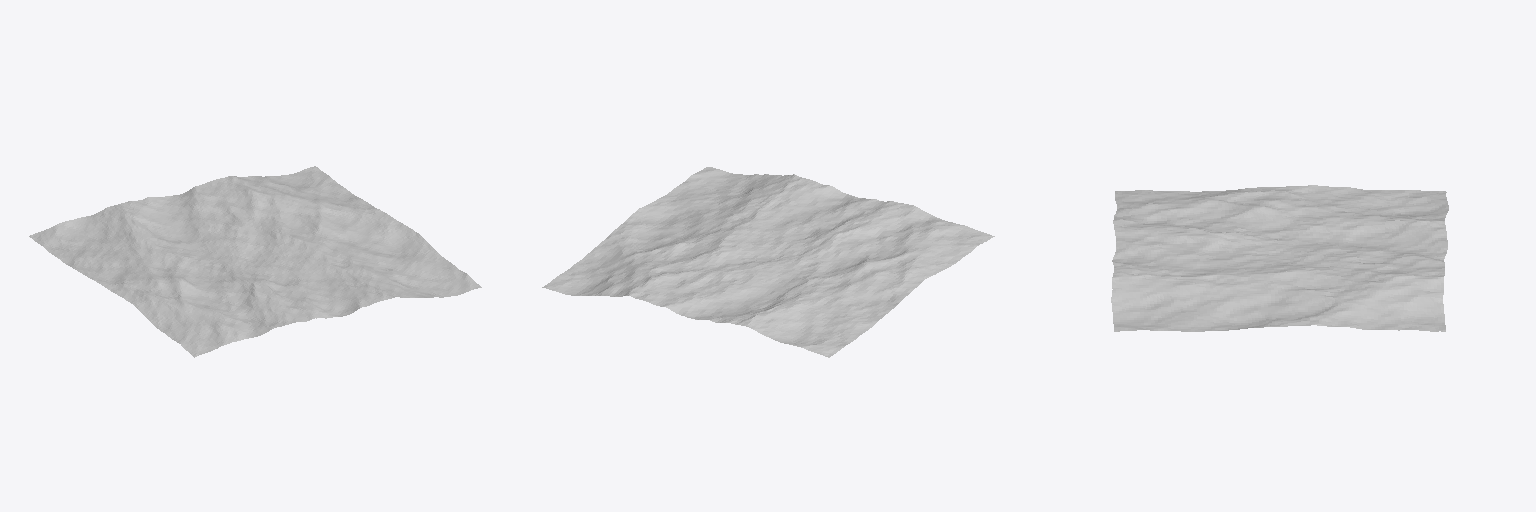
The model's file is sea.obj.
3 renders of one model, left to right at view 1: azimuth 30°, elevation 25°; view 2: azimuth 150°, elevation 25°; view 3: azimuth 270°, elevation 25°, orthographic.
Visible parts, largest first — view 1: Plane; view 2: Plane; view 3: Plane.
Part boxes in pixels (x1,y1,x2,y2): Plane: (29,166,481,357); Plane: (542,167,994,357); Plane: (1111,185,1448,331).
Size of the model in its own units: 51.04 by 2.59 by 50.85.